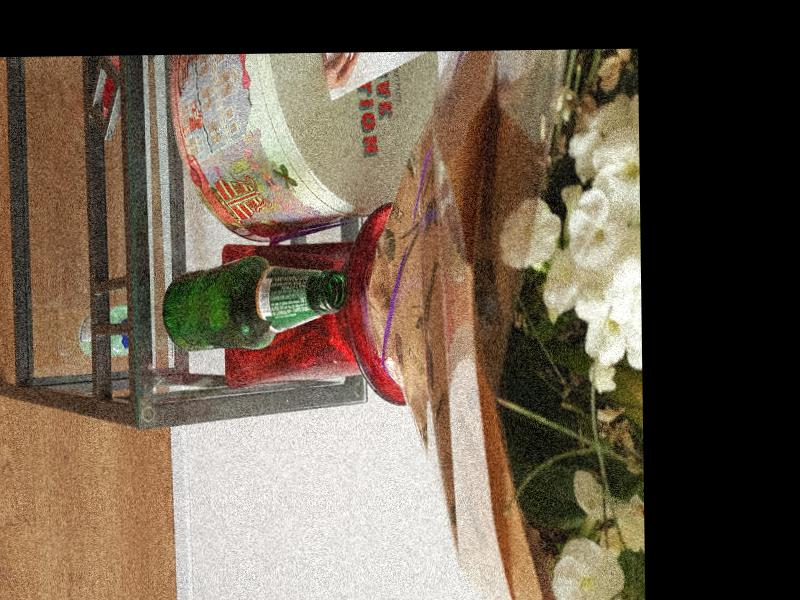Beer: (160, 254, 346, 352)
